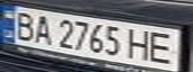2: (54, 16, 75, 50)
5: (103, 24, 127, 57)
6: (87, 21, 109, 55)
7: (69, 19, 90, 52)
A: (30, 12, 57, 46)
B: (9, 9, 39, 42)
E: (145, 29, 178, 65)
H: (124, 27, 154, 61)
